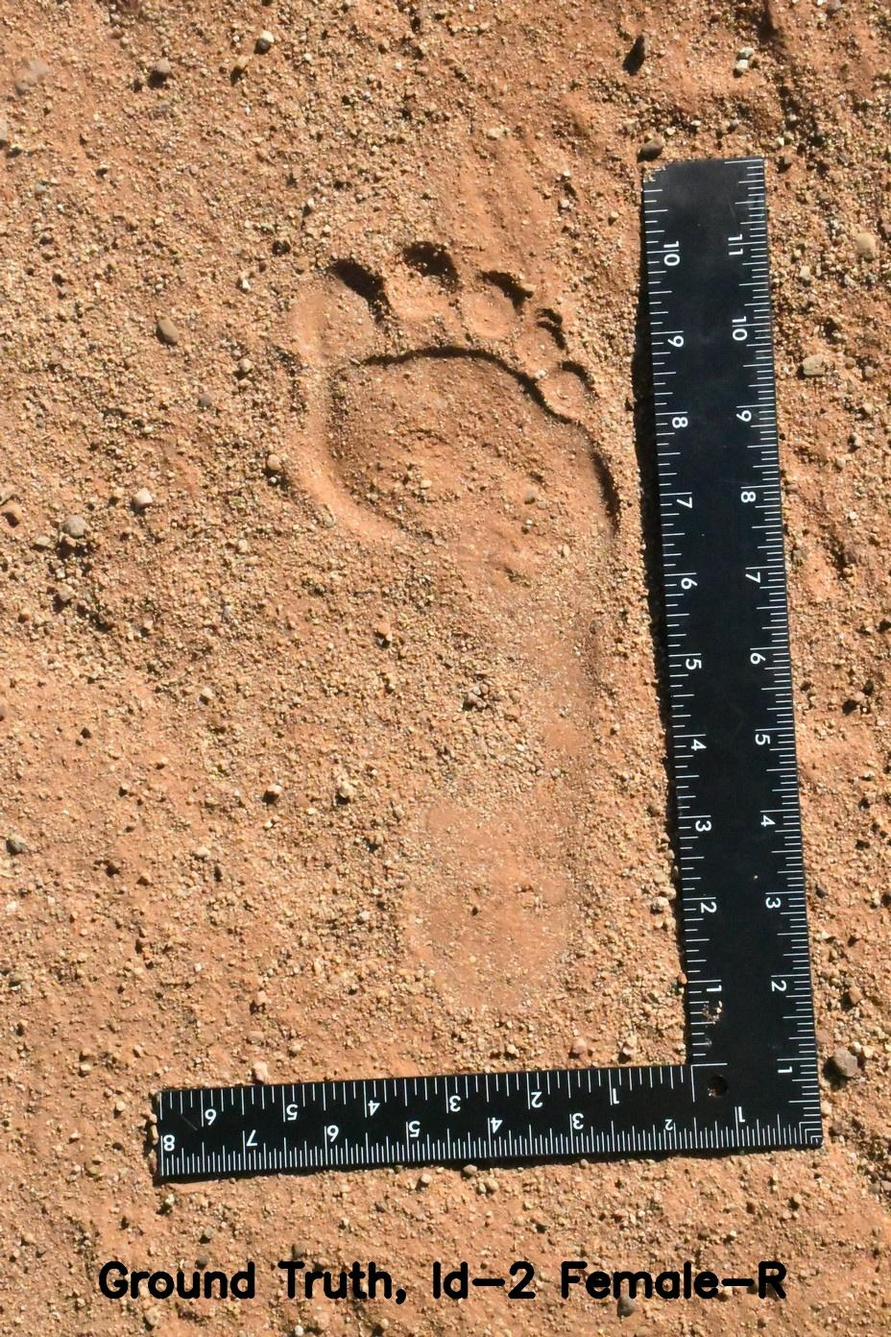human_footprint: (218, 221, 647, 1034)
